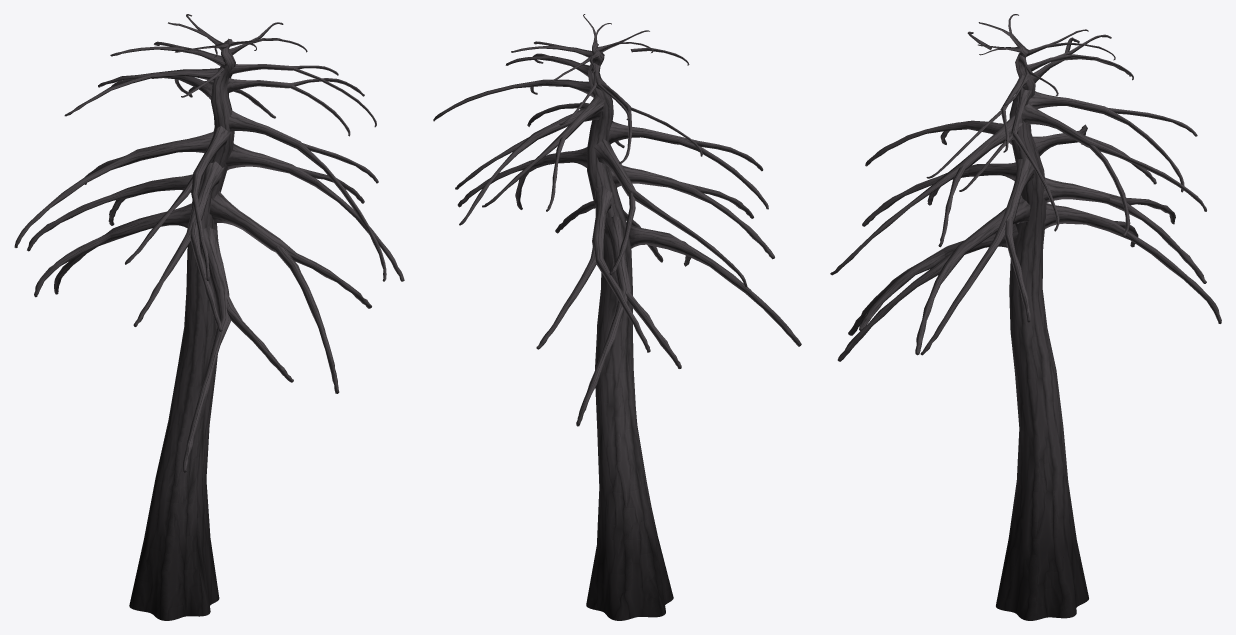
The model's file is DeadTree_4.glb.
The picture shows the model from 3 angles, left to right: view 1: azimuth 30°, elevation 25°; view 2: azimuth 150°, elevation 25°; view 3: azimuth 270°, elevation 25°; orthographic projection. The views are drawn at different scales.
Visible parts, largest first — view 1: DeadTree_4; view 2: DeadTree_4; view 3: DeadTree_4.
Boxes of the visible parts, left/top/right/bottom form: DeadTree_4: left=14, top=14, right=404, bottom=620; DeadTree_4: left=433, top=14, right=801, bottom=620; DeadTree_4: left=830, top=14, right=1221, bottom=620.
Size of the model in its own units: 7.96 by 12.77 by 7.73.
1 material, 1 textured.
